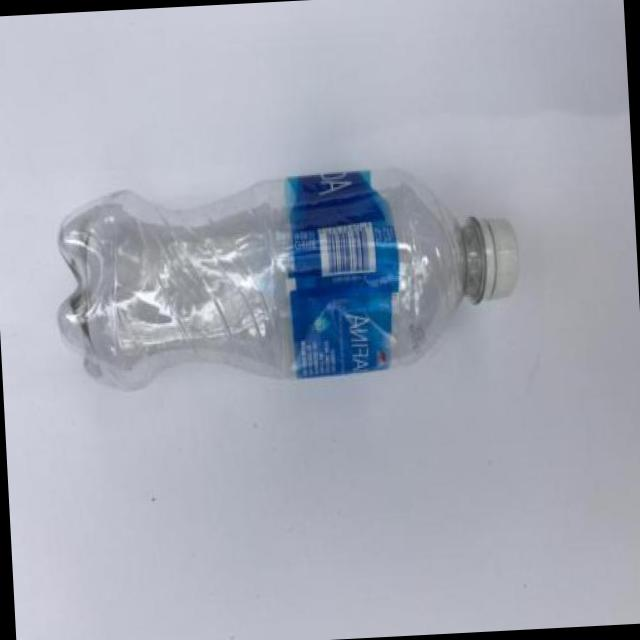plastic_bottle: (50, 162, 525, 394)
